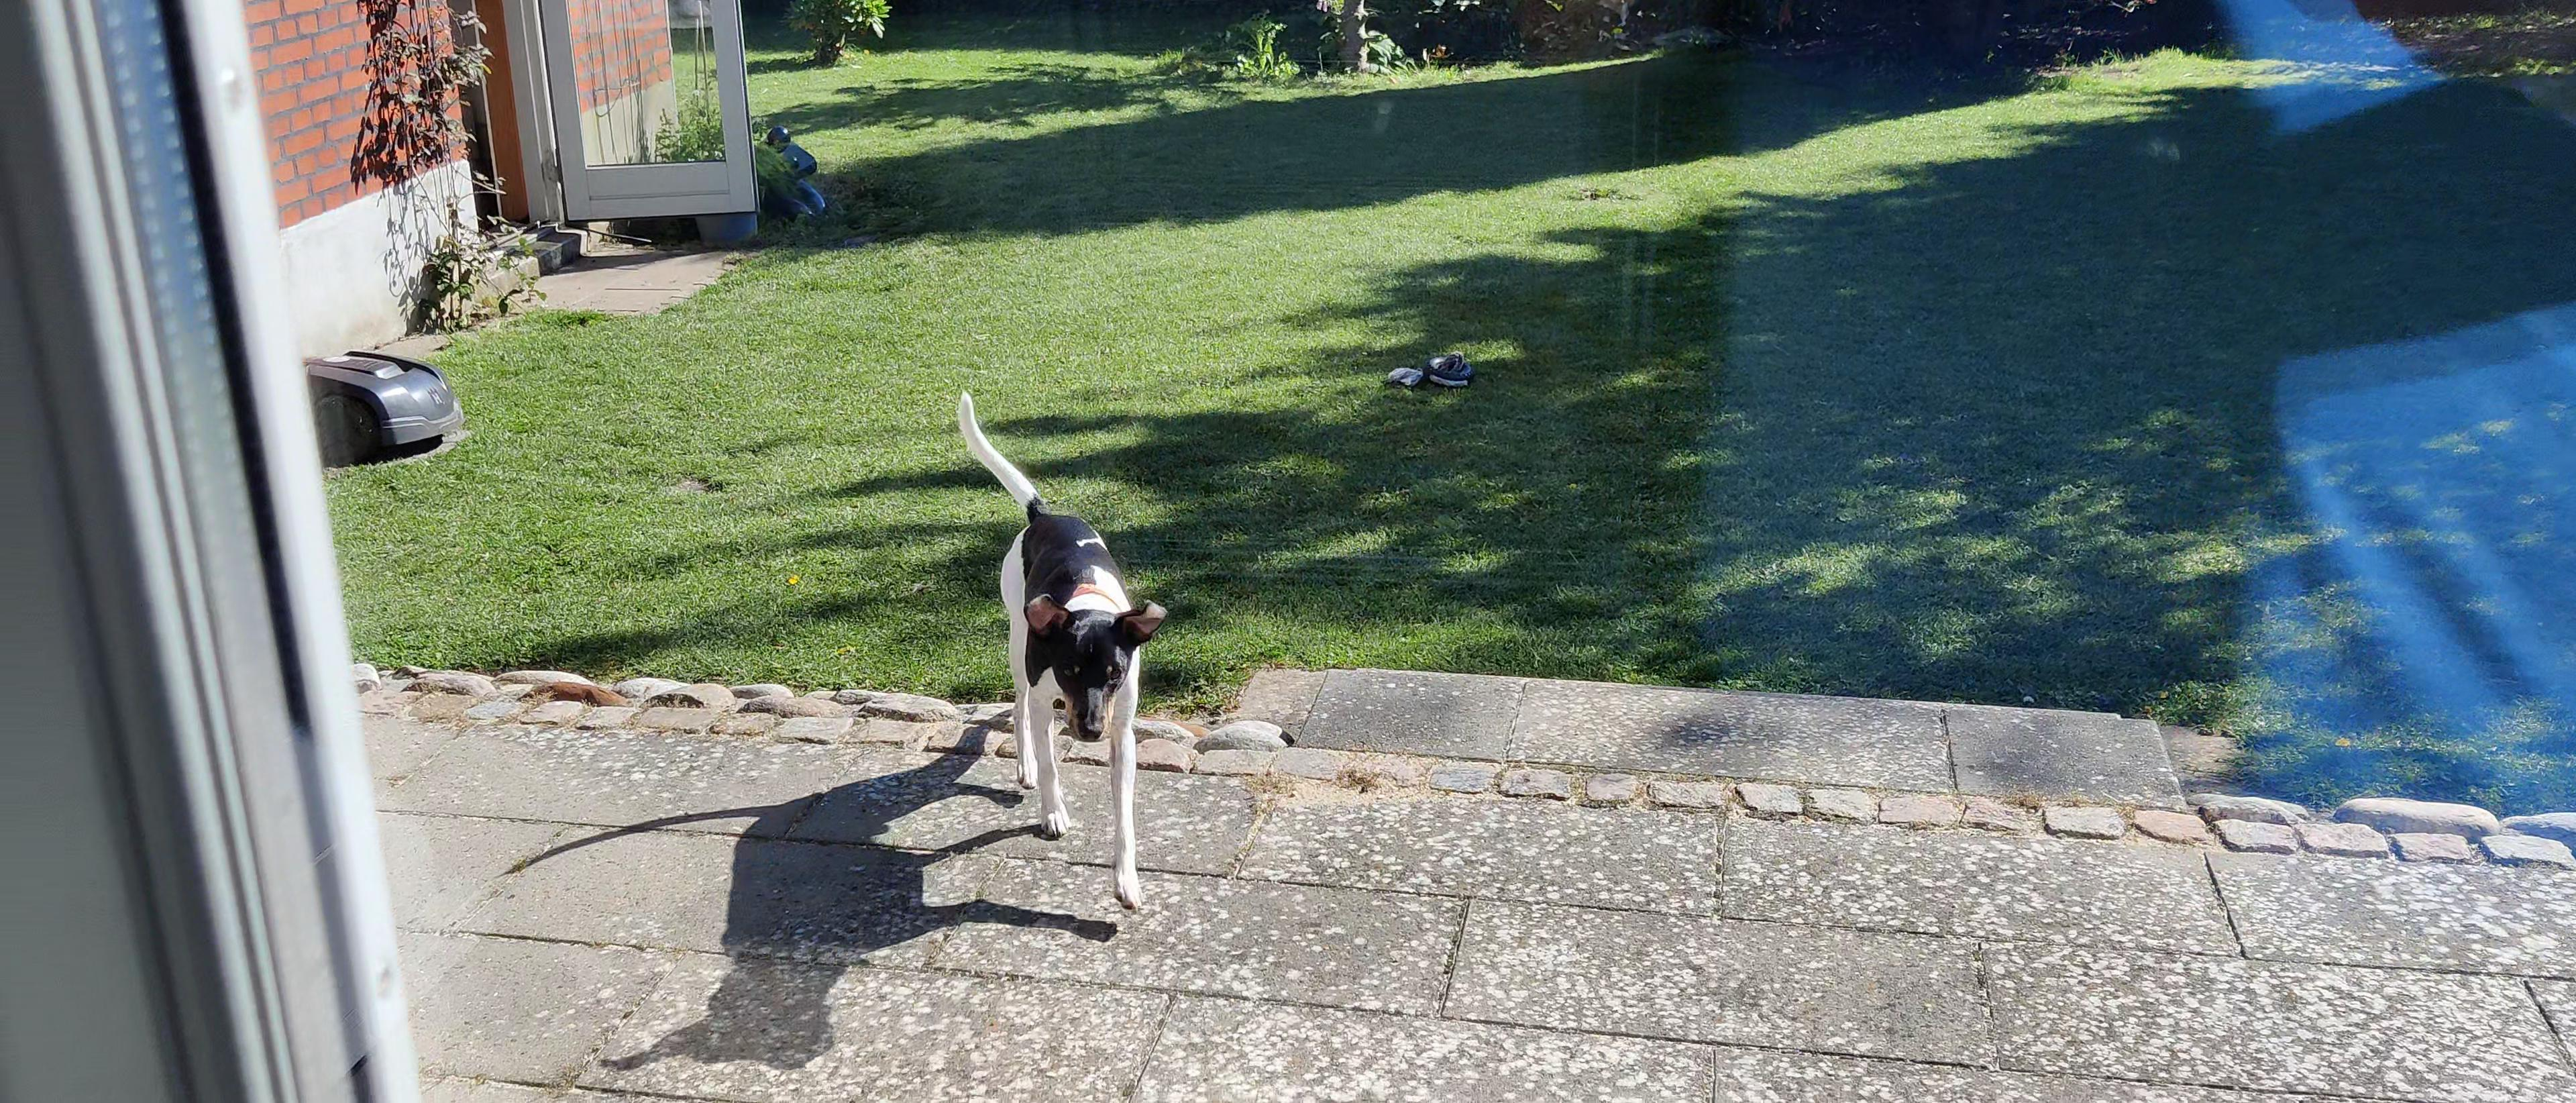Dog: (941, 385, 1175, 917)
